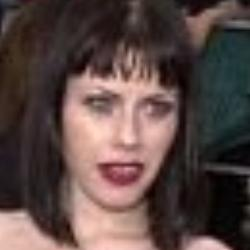face: (16, 3, 207, 243)
